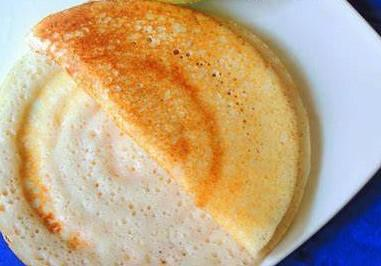Dosa: (24, 0, 310, 260), (0, 47, 263, 266)
